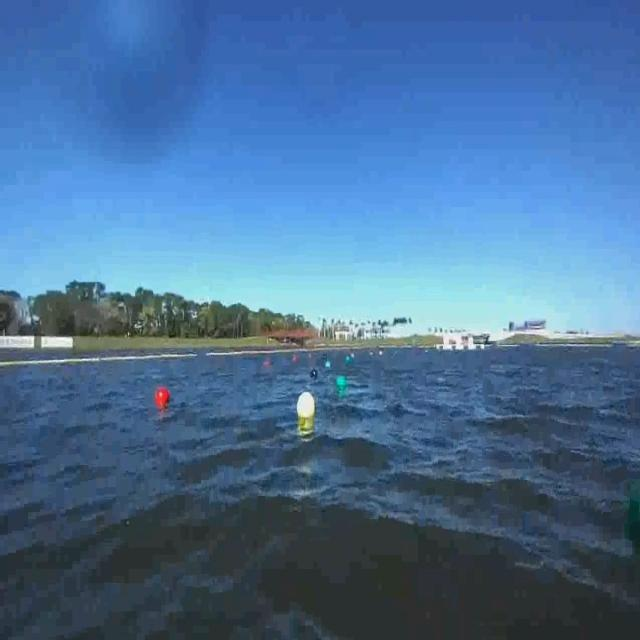black-buoy: (312, 367, 318, 378)
green-buoy: (338, 375, 348, 391)
red-buoy: (155, 385, 170, 403)
yellow-buoy: (298, 392, 316, 421)
